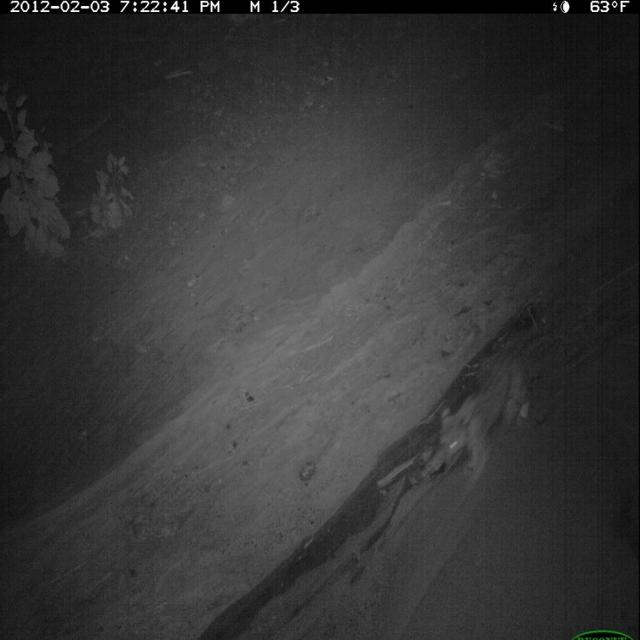bobcat: (435, 334, 538, 494)
